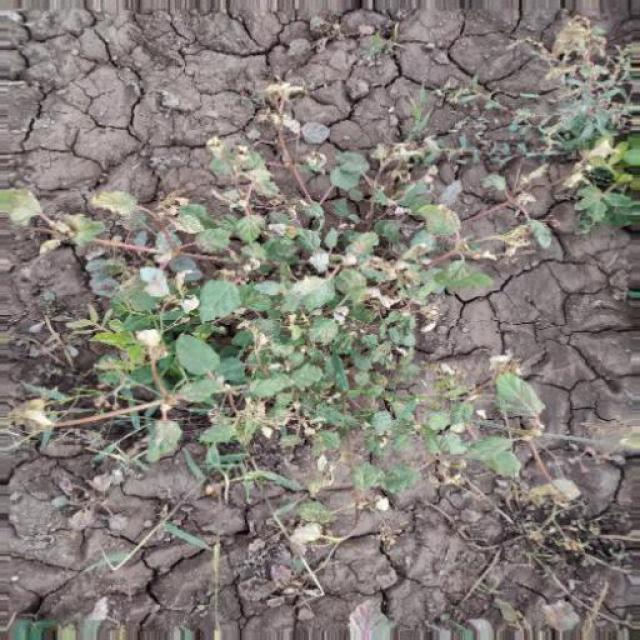weed: (35, 134, 505, 424)
